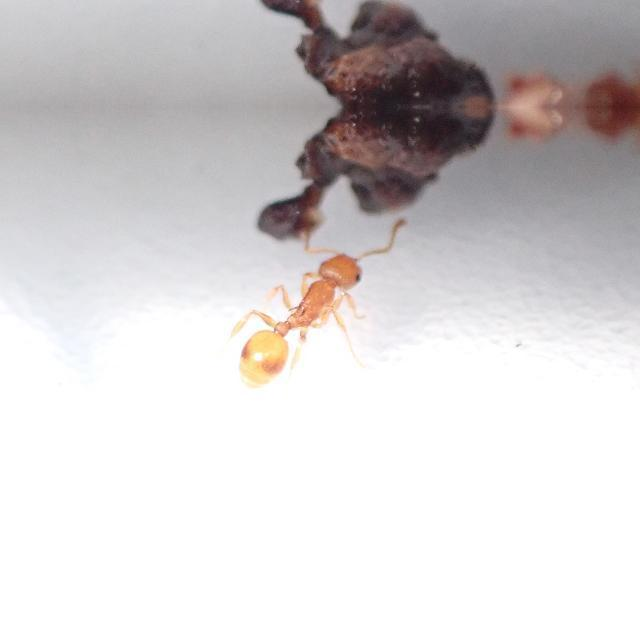Temnothorax: (212, 212, 408, 396)
